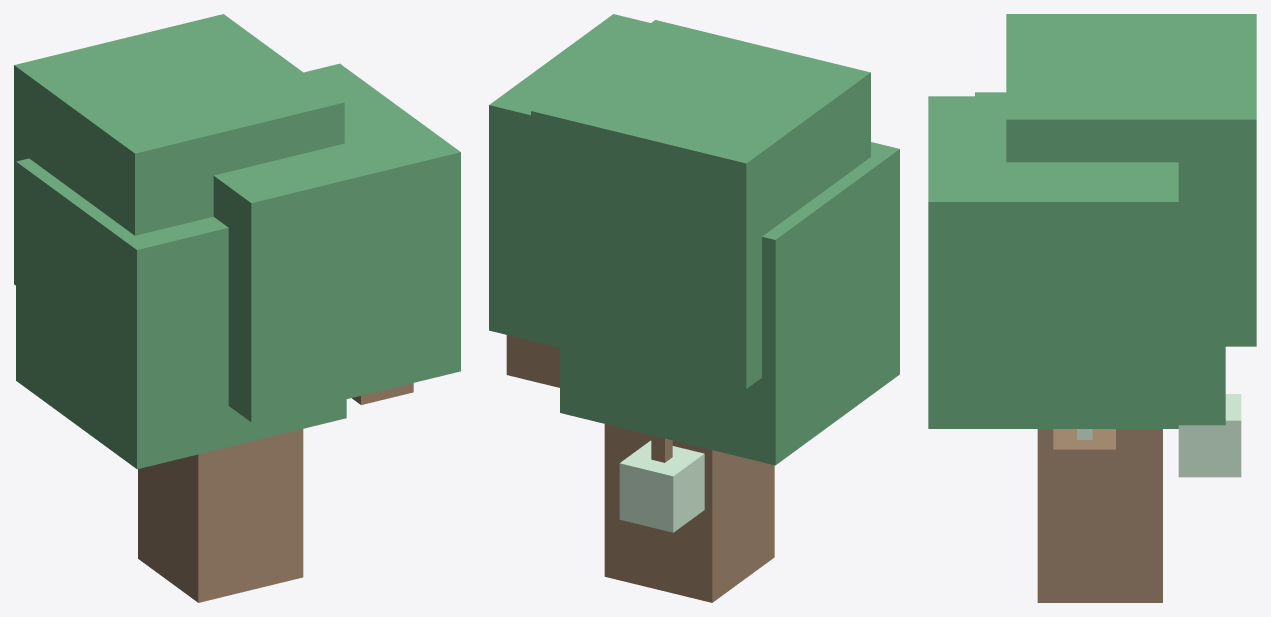
File: tree-fruit.glb
3 renders of one model, left to right at view 1: azimuth 30°, elevation 25°; view 2: azimuth 150°, elevation 25°; view 3: azimuth 270°, elevation 25°, orthographic. The views are drawn at different scales.
Visible parts, largest first — view 1: mesh (×4), group; view 2: mesh (×4), group2, group; view 3: mesh (×4), group, group2.
Boxes of the visible parts, left/top/right/bottom form: mesh (×4): left=14, top=14, right=460, bottom=602; group: left=352, top=383, right=413, bottom=404; mesh (×4): left=489, top=14, right=899, bottom=602; group2: left=619, top=435, right=704, bottom=532; group: left=506, top=335, right=559, bottom=387; mesh (×4): left=928, top=14, right=1256, bottom=602; group: left=1053, top=429, right=1115, bottom=506; group2: left=1178, top=394, right=1241, bottom=477.
Bounding box in the file's own units: 1.5 × 2.19 × 1.31.
